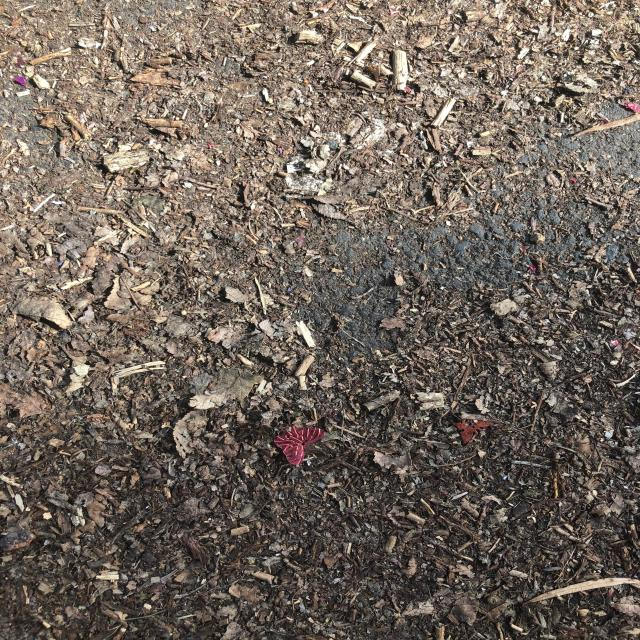litter: (263, 418, 337, 479), (616, 97, 637, 120)
